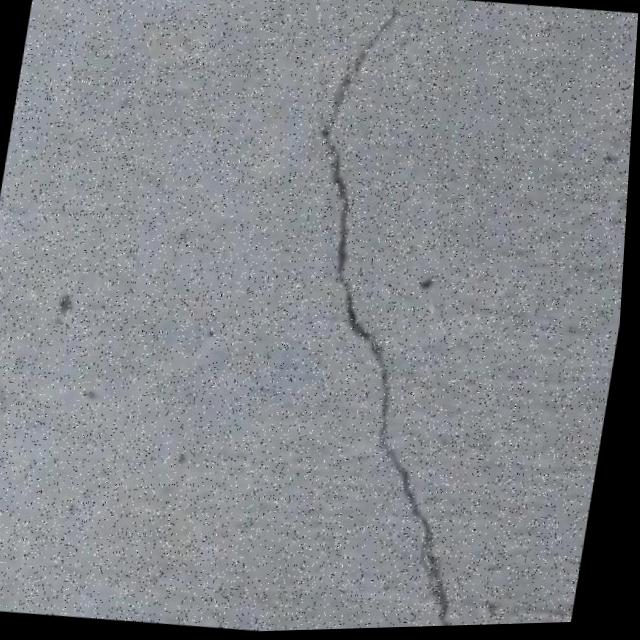Crack: (233, 0, 571, 634)
